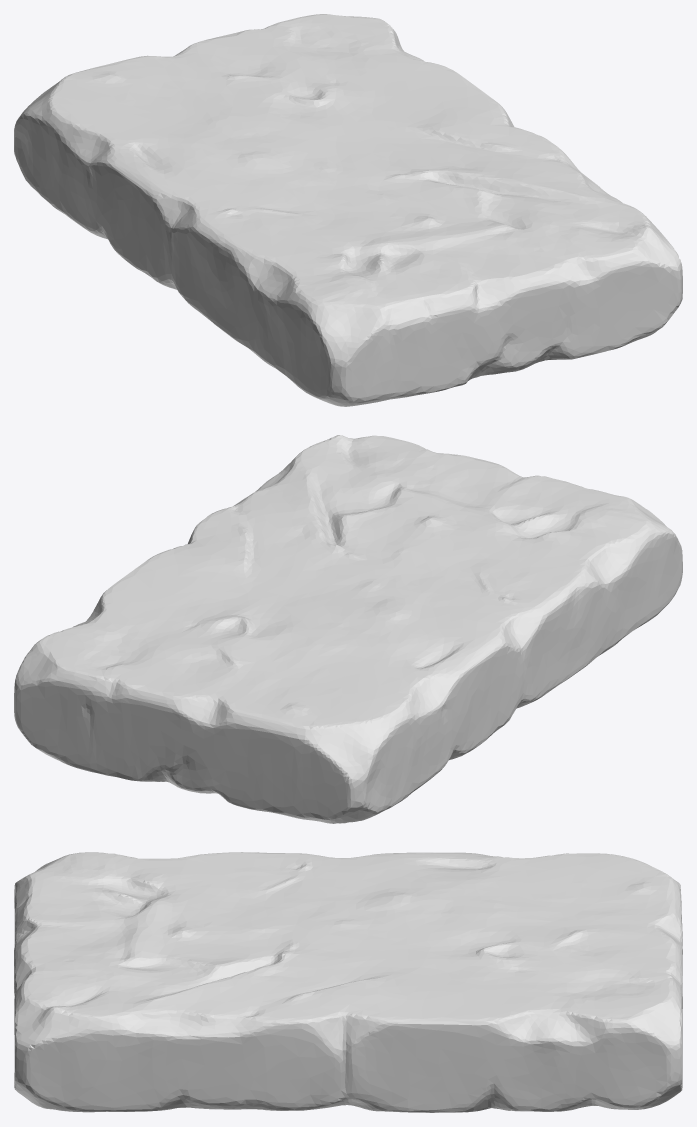
File: cat_crypt_slab.glb
The picture shows the model from 3 angles, top to bottom: view 1: azimuth 30°, elevation 25°; view 2: azimuth 150°, elevation 25°; view 3: azimuth 270°, elevation 25°; orthographic projection.
Visible parts, largest first — view 1: Low; view 2: Low; view 3: Low.
Part boxes in pixels (left/top/right/bottom): Low: left=14, top=14, right=682, bottom=406; Low: left=14, top=435, right=682, bottom=823; Low: left=14, top=852, right=682, bottom=1112.
Bounding box in the file's own units: 1.24 × 0.3303 × 1.99.
Materials: 1 (1 with a texture image).
